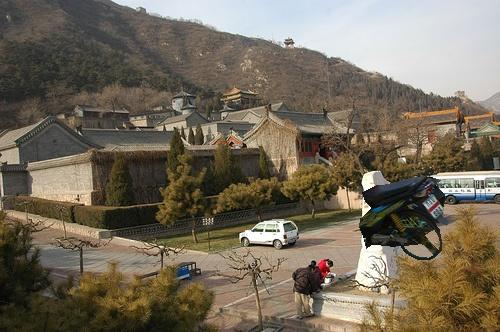tampered: (360, 177, 449, 260)
